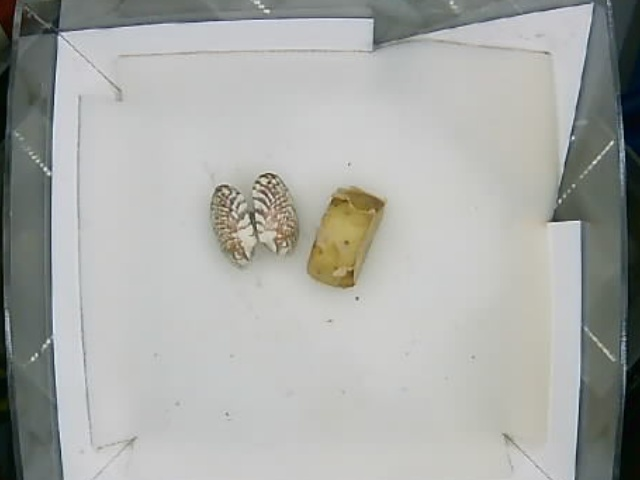Potato: (311, 187, 387, 291)
Shell: (210, 173, 299, 268)
